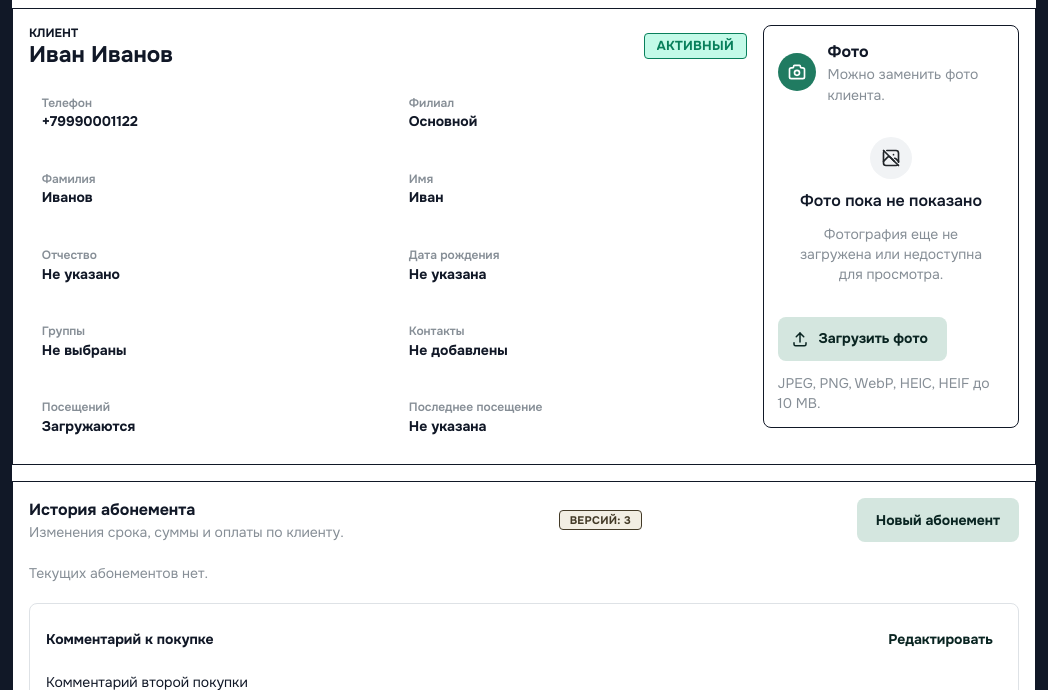
Test: ClientDetailScreen membership sale comments › saves through sale identity and keeps another draft stable across reorder and insertion
Click the button with aria-label "Редактировать комментарий".
click(941, 640)  # box [879,618,1002,662]
(page scrolled)
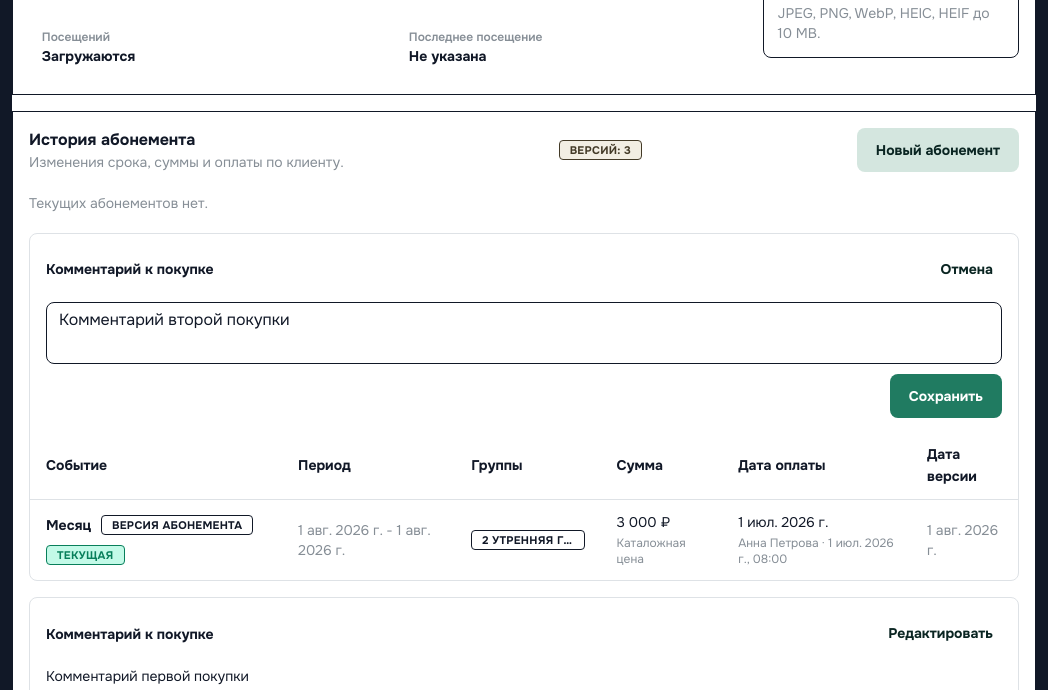
Replace the text in the text box named "Комментарий к покупке" with "Черновик B" at coordinates (524, 333), box [46,302,1002,364]
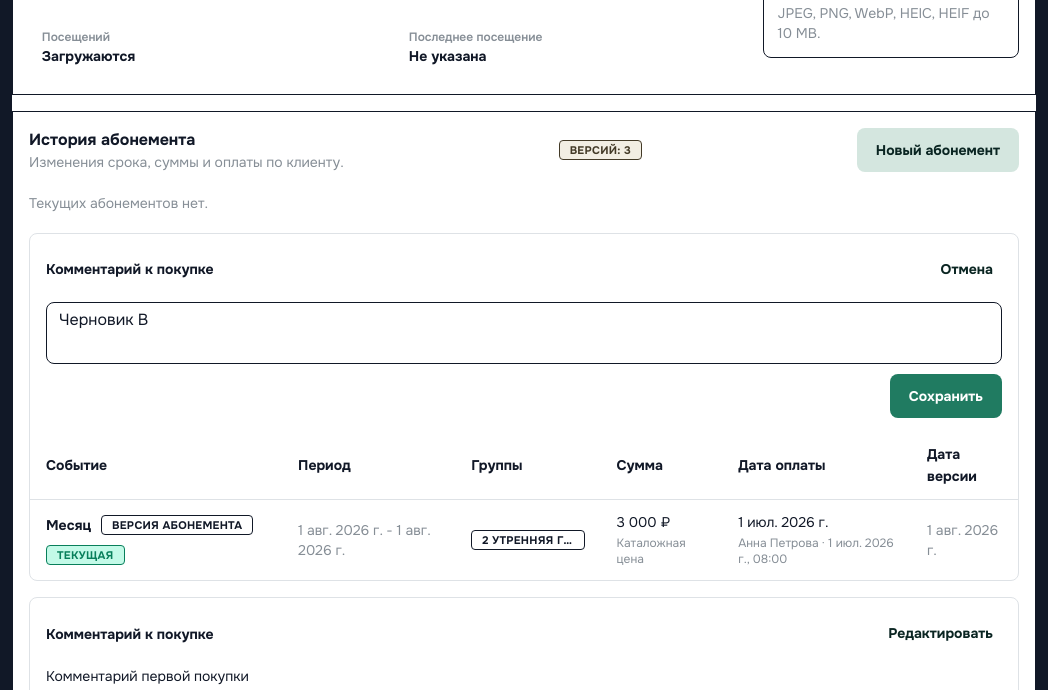
Click the button with aria-label "Редактировать комментарий".
click(941, 634)  # box [879,612,1002,656]
(page scrolled)
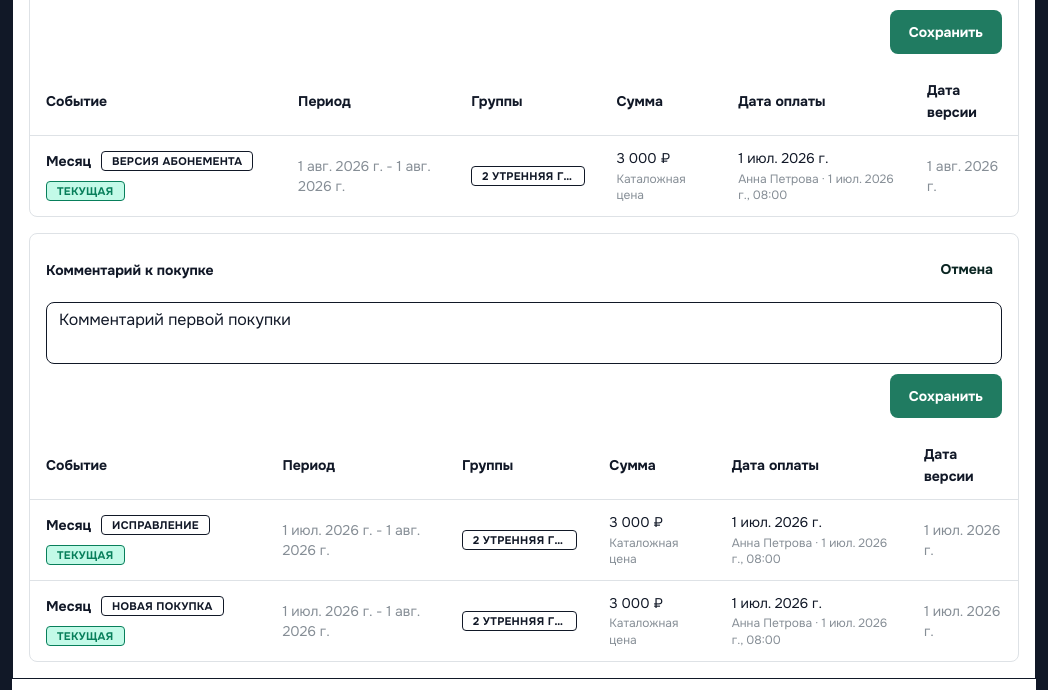
Replace the text in the 2nd text box named "Комментарий к покупке" with "Обновлено" at coordinates (524, 333), box [46,302,1002,364]
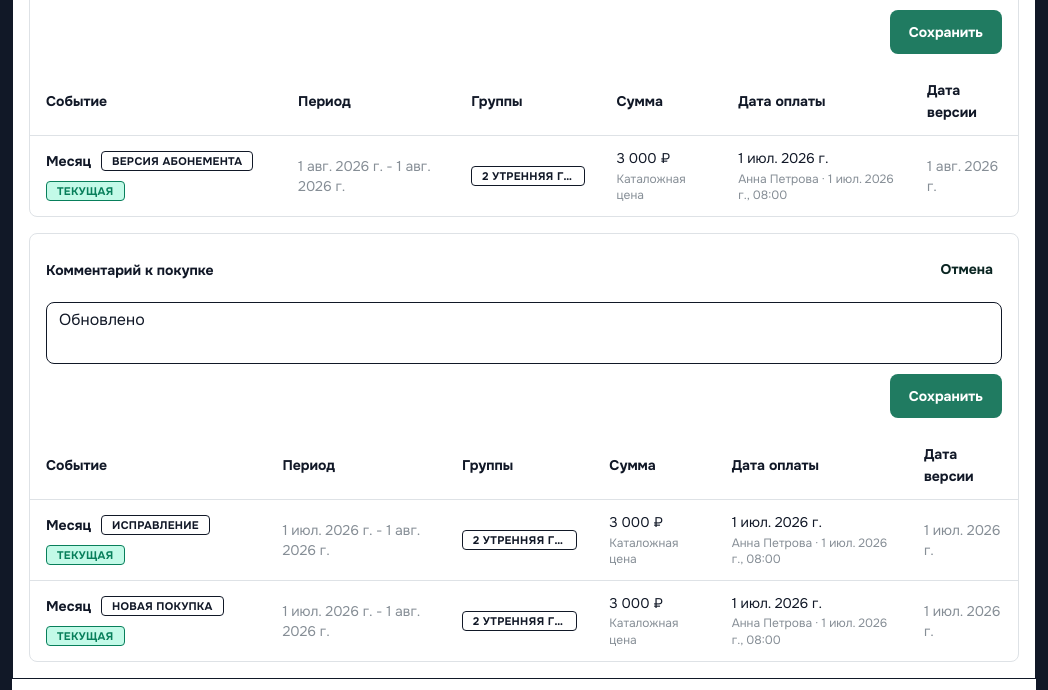
Click the 2nd button "Сохранить".
click(946, 396)  # box [890,374,1002,418]
(page scrolled)
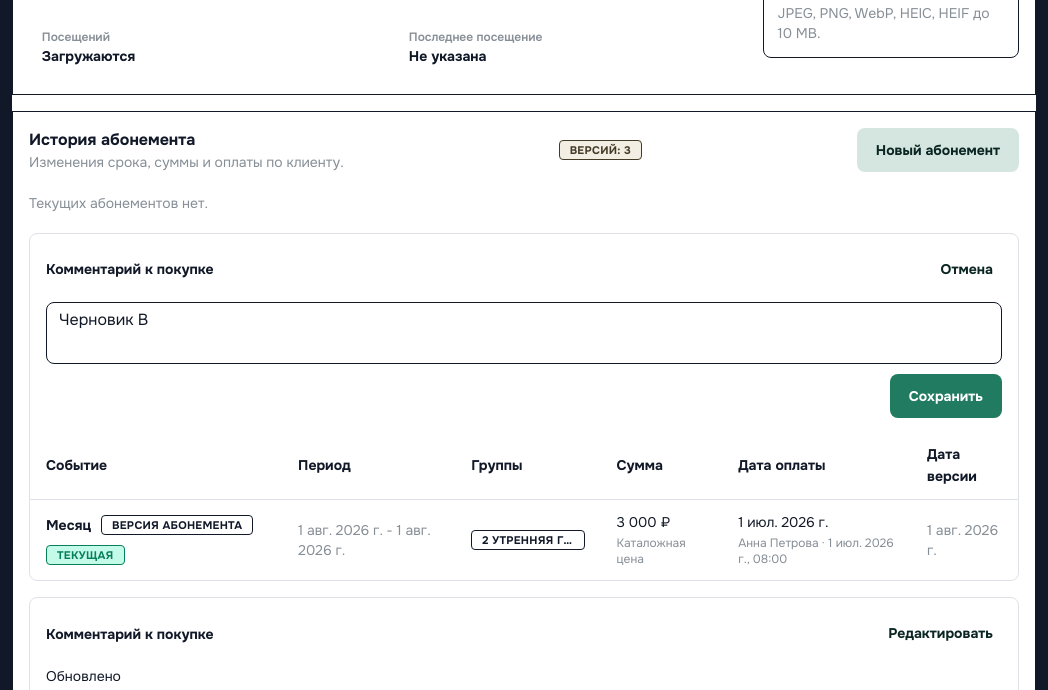
Result: the text "Комментарий к покупке" is shown 2 times at [46,260,214,280]; [46,624,214,644]
Result: the text "Обновлено" is shown once at [46,667,121,685]
